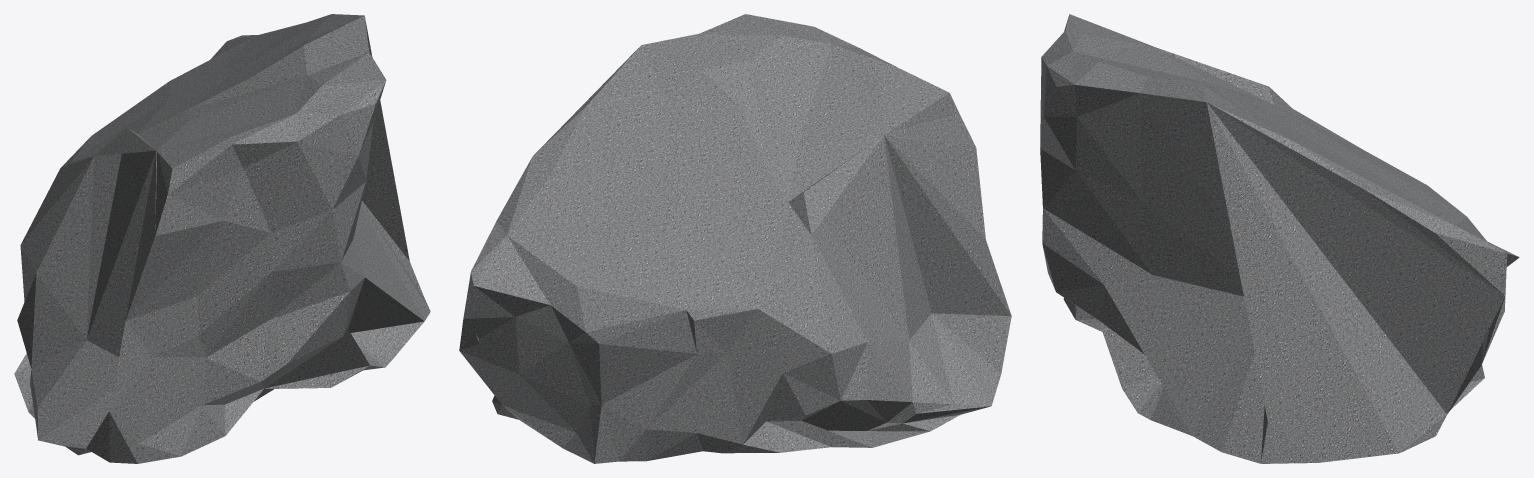
File: boulder_small.fbx
3 views of the same model, side by side, from view 1: azimuth 30°, elevation 25°; view 2: azimuth 150°, elevation 25°; view 3: azimuth 270°, elevation 25° (orthographic). The views are drawn at different scales.
Parts seen in each view (by area): view 1: Group1; view 2: Group1; view 3: Group1.
Part boxes in pixels (box(x1,y1,x2,y2)): Group1: box(14, 14, 430, 463); Group1: box(459, 14, 1011, 463); Group1: box(1040, 14, 1519, 463).
Bounding box in the file's own units: 1.28 × 0.9355 × 1.23.
